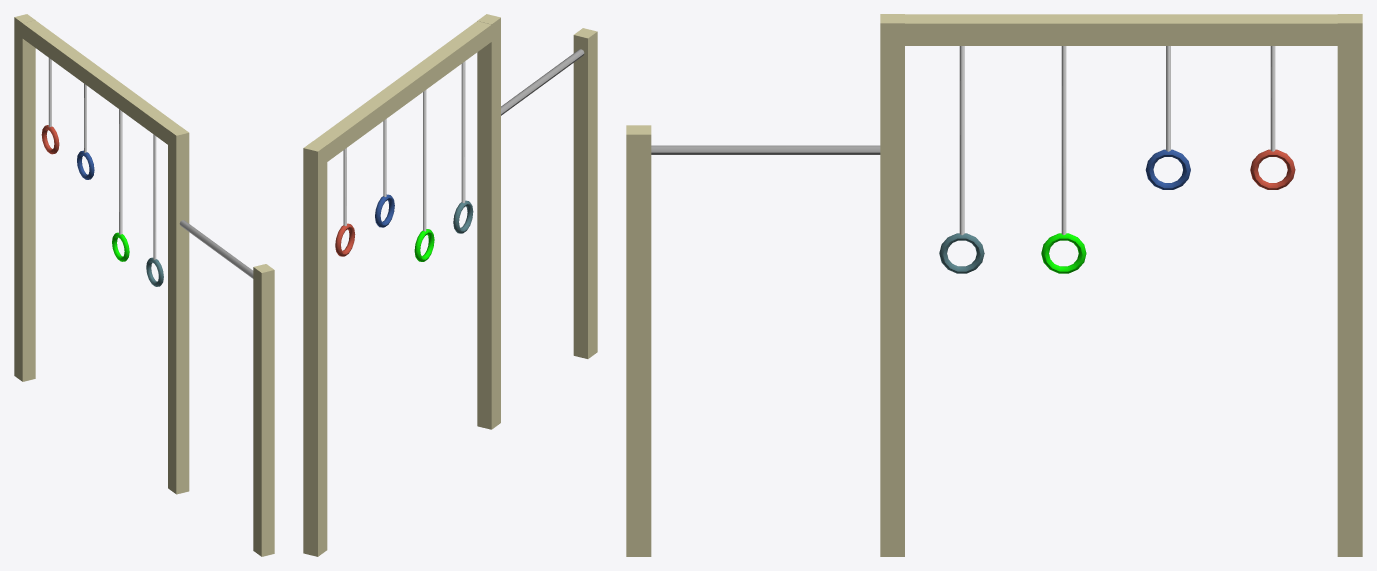
Rendered from CrossBar.obj.
The picture shows the model from 3 angles, left to right: view 1: azimuth 30°, elevation 25°; view 2: azimuth 150°, elevation 25°; view 3: azimuth 270°, elevation 25°; orthographic projection. The views are drawn at different scales.
Visible parts, largest first — view 1: SM_Rings_Crossbar_01; view 2: SM_Rings_Crossbar_01; view 3: SM_Rings_Crossbar_01.
Part boxes in pixels (<box>): SM_Rings_Crossbar_01: <box>14,14,274,556</box>; SM_Rings_Crossbar_01: <box>303,14,597,556</box>; SM_Rings_Crossbar_01: <box>626,14,1362,556</box>.
Bounding box in the file's own units: 0.0946 × 2.53 × 3.16.
